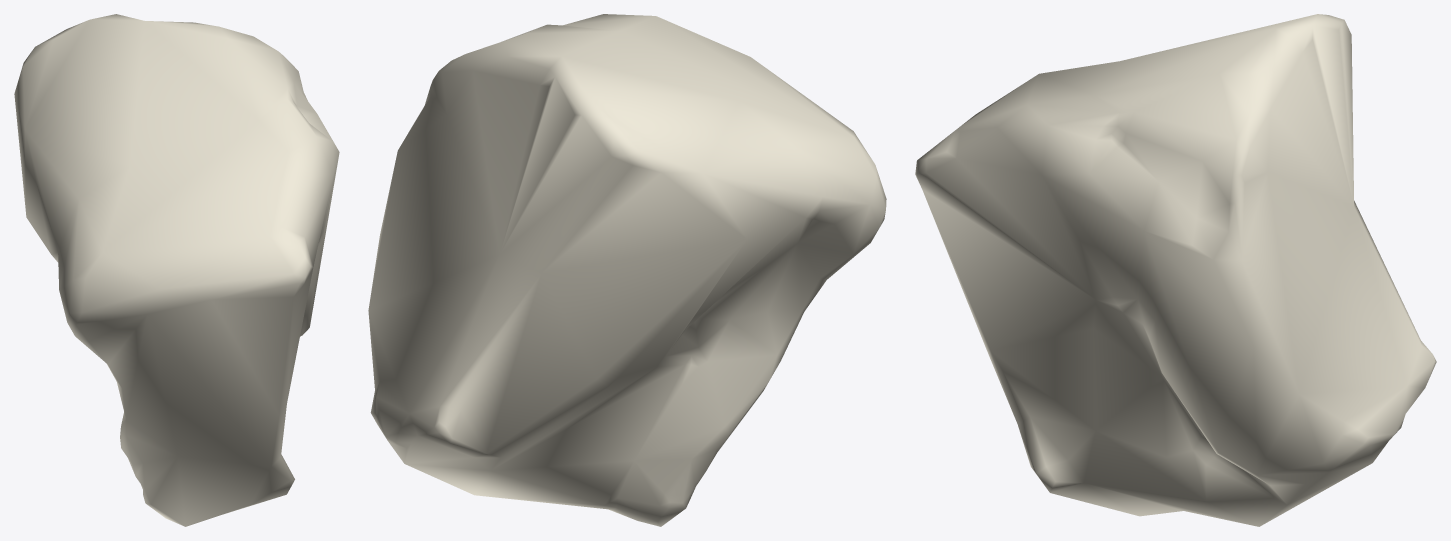
3 renders of one model, left to right at view 1: azimuth 30°, elevation 25°; view 2: azimuth 150°, elevation 25°; view 3: azimuth 270°, elevation 25°, orthographic. The views are drawn at different scales.
Visible parts, largest first — view 1: ZA_9d394d4752f27af2; view 2: ZA_9d394d4752f27af2; view 3: ZA_9d394d4752f27af2.
Part boxes in pixels (box(x1,y1,x2,y2)): ZA_9d394d4752f27af2: box(14, 14, 339, 526); ZA_9d394d4752f27af2: box(368, 14, 886, 526); ZA_9d394d4752f27af2: box(915, 14, 1436, 526).
Bounding box in the file's own units: 0.0195 × 0.024 × 0.023.
